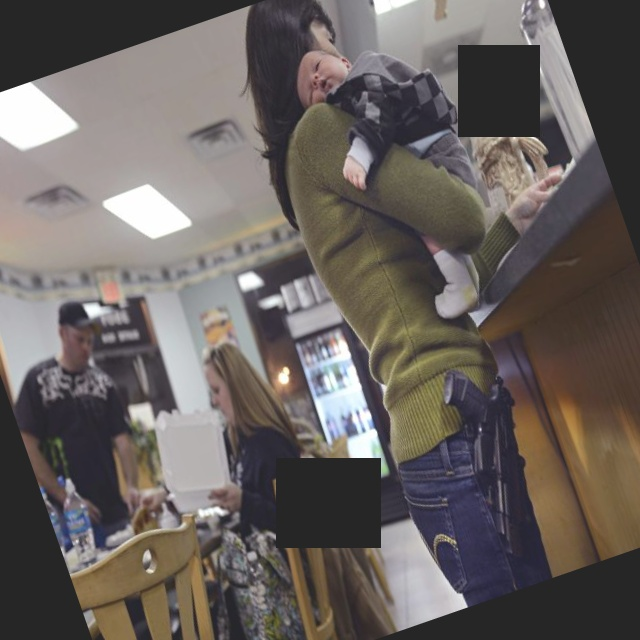gun: (427, 344, 572, 578)
